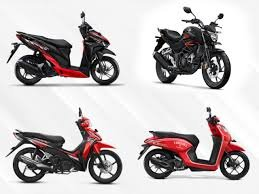motor: (7, 112, 123, 186), (11, 17, 120, 89), (139, 112, 250, 180), (146, 15, 235, 89)
